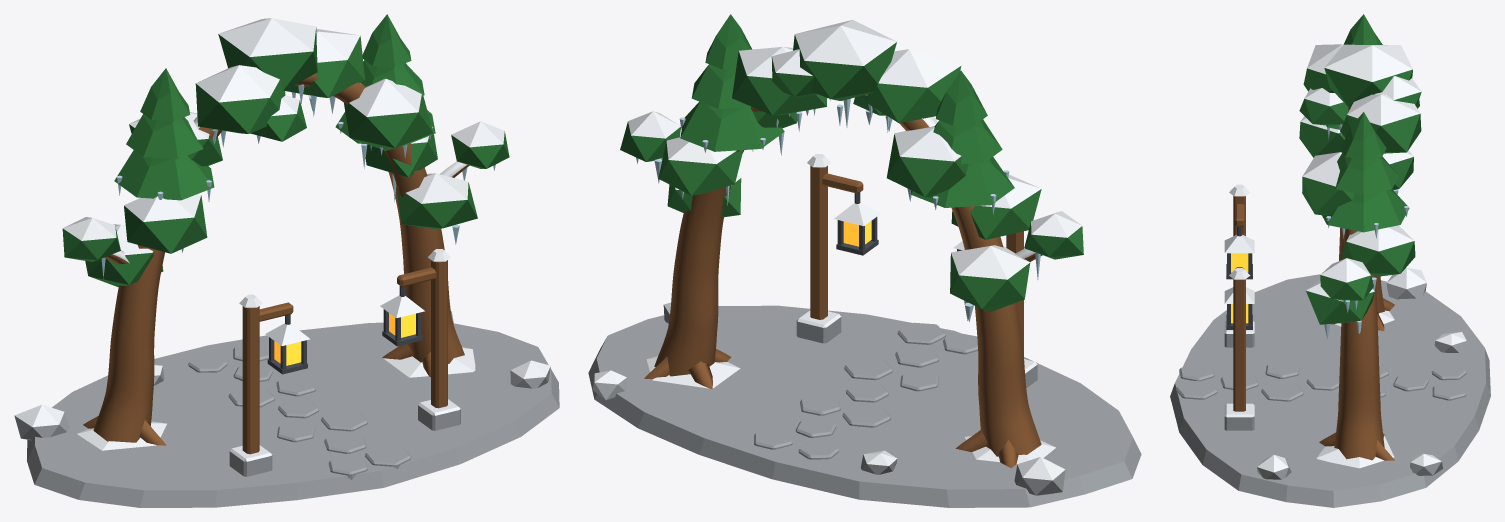
The model's file is frozen-tree-arch.glb.
The picture shows the model from 3 angles, left to right: view 1: azimuth 30°, elevation 25°; view 2: azimuth 150°, elevation 25°; view 3: azimuth 270°, elevation 25°; orthographic projection. The views are drawn at different scales.
Parts seen in each view (by area): view 1: Ground_Base, Trunk_Arch, PineTop_L, Path_Stones, Foliage_04, Foliage_03, Foliage_06, Foliage_01, Foliage_08, LanternPost_L, Foliage_05, PineTop_R (+16 smaller); view 2: Ground_Base, Trunk_Arch, Path_Stones, PineTop_R, PineTop_L, Foliage_04, Foliage_03, Foliage_00, Foliage_02, Foliage_07, Foliage_05, LanternPost_R (+13 smaller); view 3: Ground_Base, Trunk_Arch, PineTop_R, Path_Stones, Foliage_04, Foliage_05, Foliage_07, Foliage_06, Foliage_10, LanternPost_R, Foliage_08, Foliage_11 (+16 smaller).
Boxes of the visible parts, x1,y1,x2,y2 form: Ground_Base: (27,322,559,507); Trunk_Arch: (93,73,464,442); PineTop_L: (114,68,214,200); Path_Stones: (188,345,411,479); Foliage_04: (218,18,317,90); Foliage_03: (195,65,285,133); Foliage_06: (344,78,433,150); Foliage_01: (124,194,207,253); Foliage_08: (397,173,477,229); LanternPost_L: (242,302,293,454); Foliage_05: (285,29,364,97); PineTop_R: (335,14,435,146); Ground_Base: (588,305,1141,507); Trunk_Arch: (654,94,1041,456); Path_Stones: (754,322,977,459); PineTop_R: (680,14,784,151); PineTop_L: (910,70,1014,207); Foliage_04: (793,20,896,100); Foliage_03: (865,49,961,123); Foliage_00: (950,245,1030,311); Foliage_02: (886,126,968,197); Foliage_07: (658,137,743,195); Foliage_05: (732,47,827,115); LanternPost_R: (810,165,863,319); Ground_Base: (1170,274,1490,507); Trunk_Arch: (1334,107,1384,460); PineTop_R: (1322,112,1409,232); Path_Stones: (1176,361,1466,401); Foliage_04: (1324,44,1412,106); Foliage_05: (1340,94,1421,153); Foliage_07: (1341,225,1415,276); Foliage_06: (1302,152,1354,215); Foliage_10: (1320,258,1373,300); LanternPost_R: (1233,267,1245,411); Foliage_08: (1305,279,1374,324); Foliage_11: (1299,88,1348,125).
Size of the model in its own units: 24.97 by 18.1 by 14.99.
